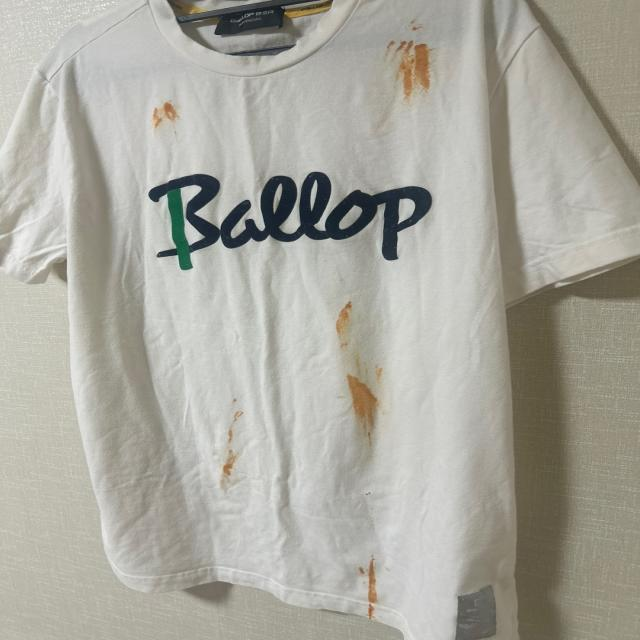stain: (384, 32, 442, 105), (343, 358, 388, 438), (220, 402, 252, 479), (354, 556, 390, 624), (148, 98, 186, 135), (333, 303, 360, 353), (410, 10, 424, 34)
